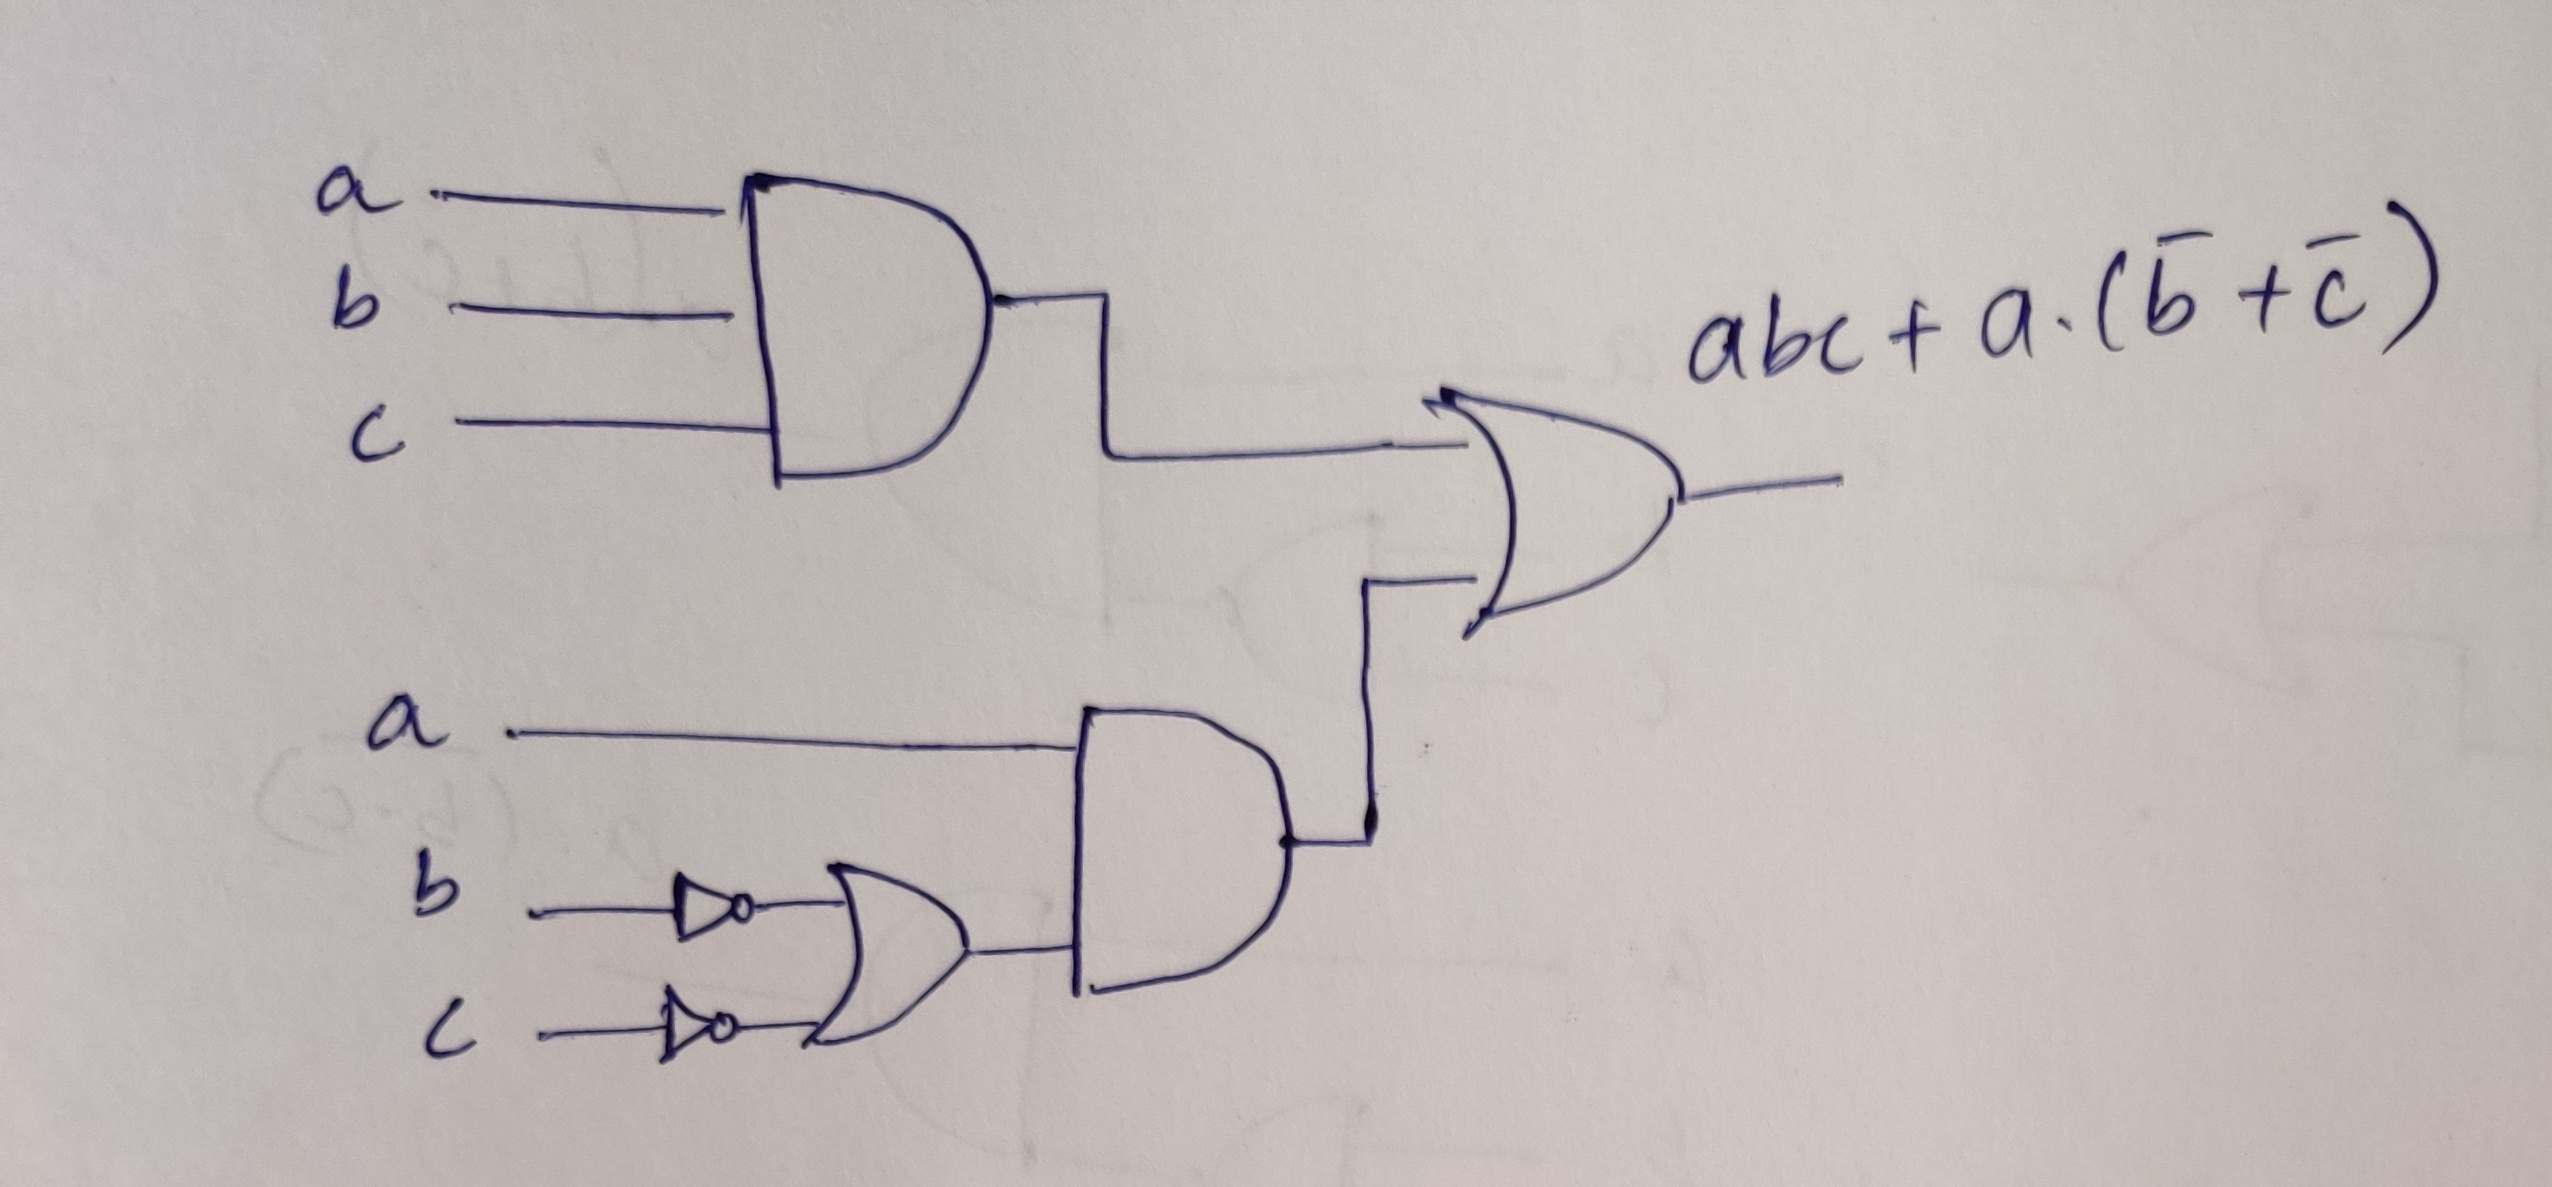and: (651, 93, 1038, 542), (1025, 637, 1341, 1024)
not: (615, 969, 780, 1102), (628, 847, 768, 949)
or: (1395, 337, 1732, 640), (797, 843, 998, 1084)
